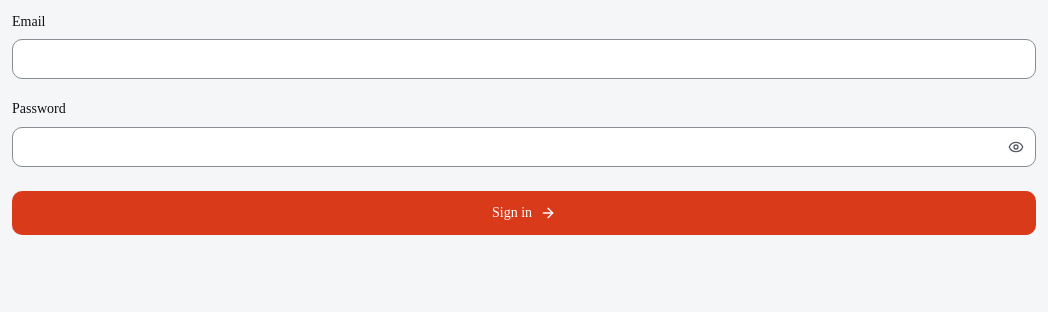
LoginForm › reports an unreachable server as unavailable
Type "owner@example.test" into the field labelled "Email" at (524,59), box top-left (12, 39), bottom-right (1036, 79)
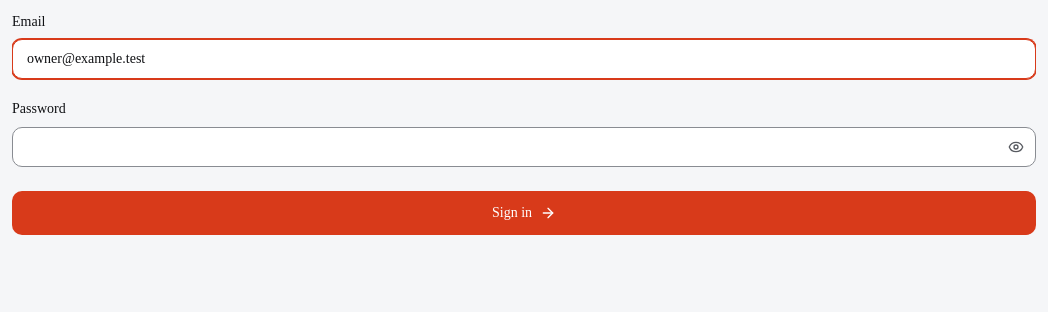
Type "secret" into the password field labelled "Password" at (524,146), box top-left (12, 126), bottom-right (1036, 166)
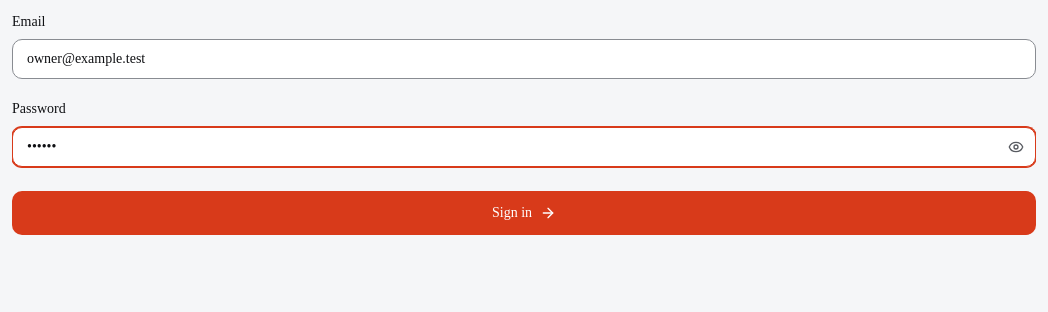
Click the button "Sign in" at (524,212), box top-left (12, 190), bottom-right (1036, 234)
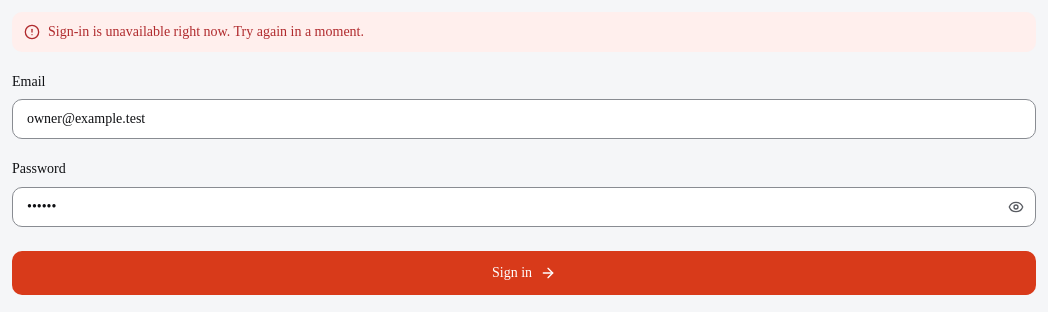
Result: the message reads "Sign-in is unavailable right now. Try again in a moment." at top-left (48, 24), bottom-right (364, 39)
